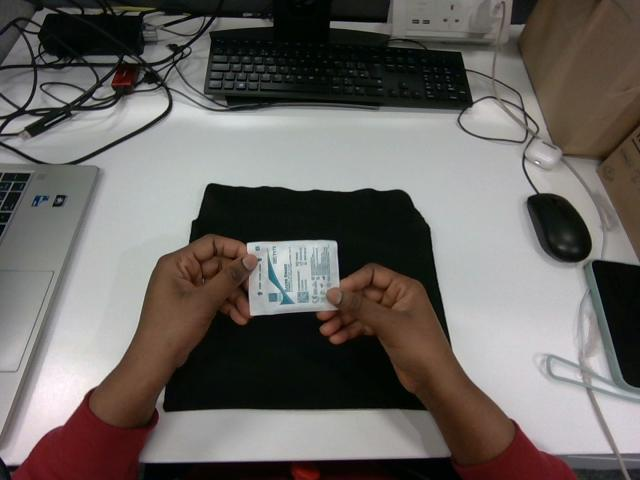gauze: (247, 240, 339, 315)
